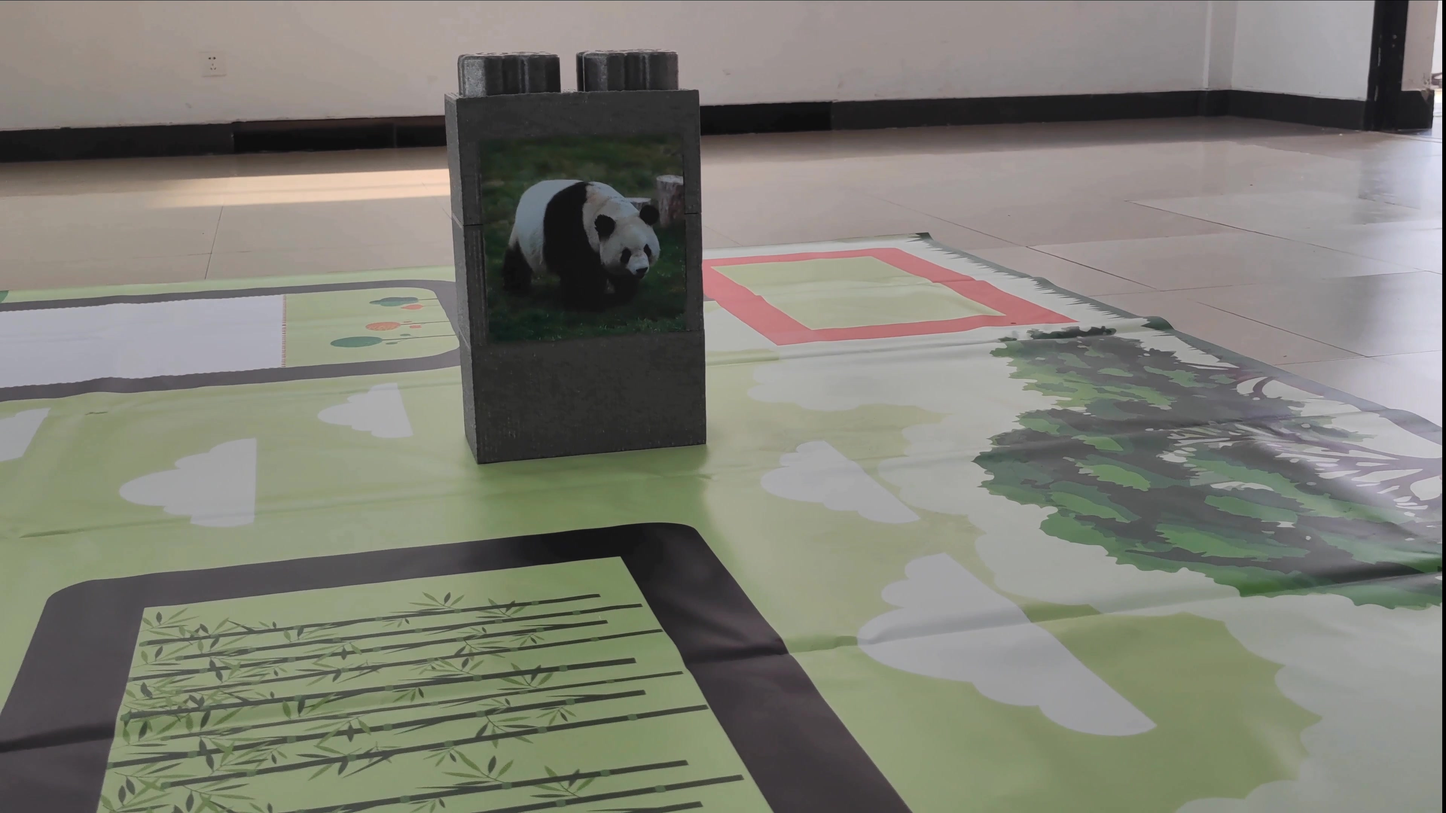panda: (486, 144, 660, 324)
